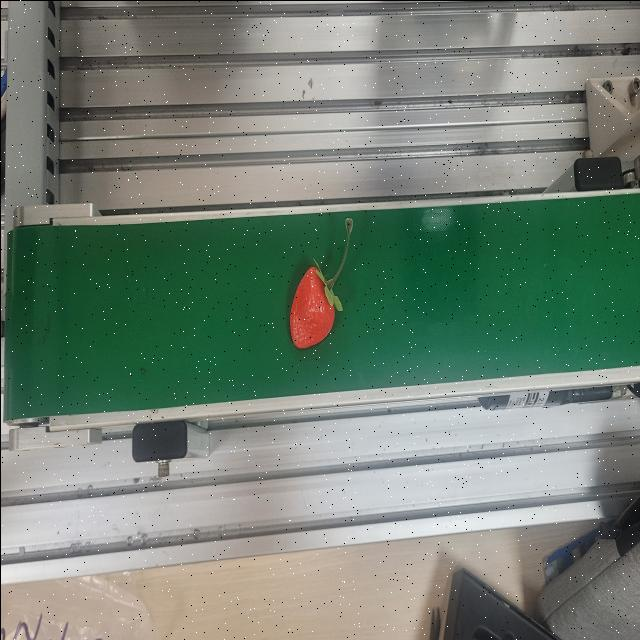Small Ripe Strawberry: (288, 254, 342, 350)
